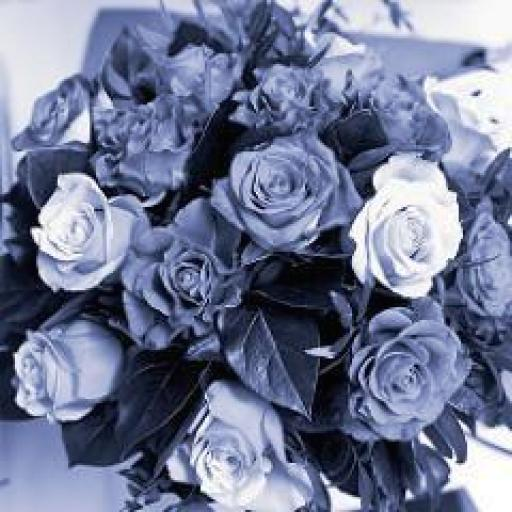rose: (209, 124, 363, 254), (115, 198, 254, 340), (175, 382, 318, 512), (346, 305, 476, 437), (348, 150, 463, 294), (32, 171, 141, 290), (8, 322, 124, 423)
